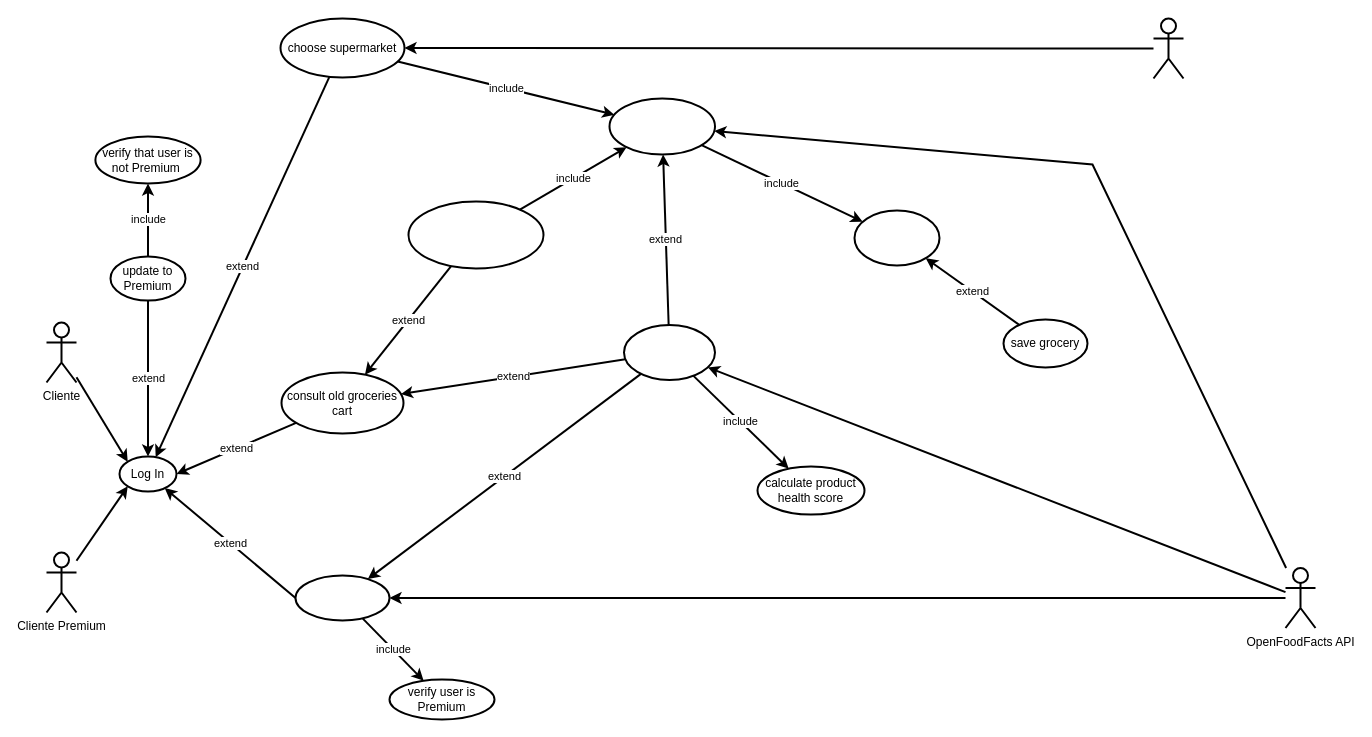
Some shapes in this 1372 by 737 pixel diagram are drawn without their labels. Each missing label, with the centre of its shape:
"copy old grocery cart into a new one" belongs at pixel 475 234.
"edit cart" belongs at pixel 896 237.
"get product information" belongs at pixel 669 352.
"search product" belongs at pixel 342 597.
"Show supermarket items" belongs at pixel 662 126.
"StimaDistanza API" belongs at pixel 1168 48.
